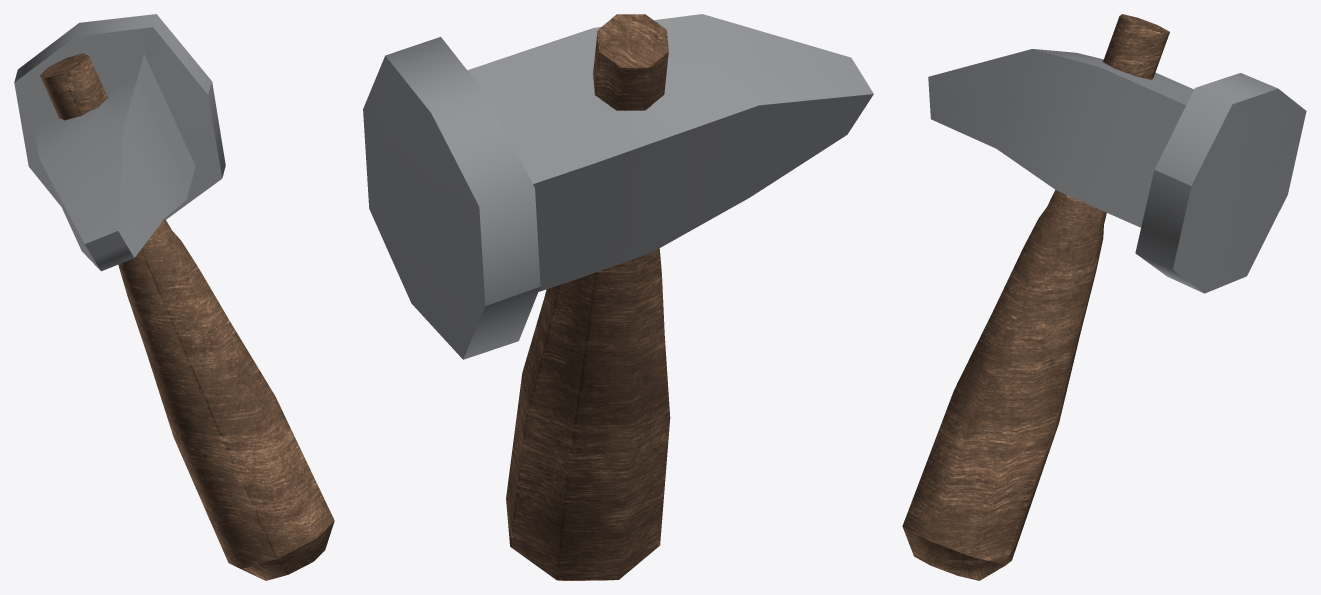
Rendered from Martillo.fbx.
The picture shows the model from 3 angles, left to right: view 1: azimuth 30°, elevation 25°; view 2: azimuth 150°, elevation 25°; view 3: azimuth 270°, elevation 25°; orthographic projection. The views are drawn at different scales.
Visible parts, largest first — view 1: Martillo; view 2: Martillo; view 3: Martillo.
Boxes of the visible parts, <box> form: Martillo: <box>14,14,334,580</box>; Martillo: <box>363,14,873,580</box>; Martillo: <box>902,14,1306,580</box>.
Bounding box in the file's own units: 60.28 × 111 × 81.39.
1 material, 1 textured.
